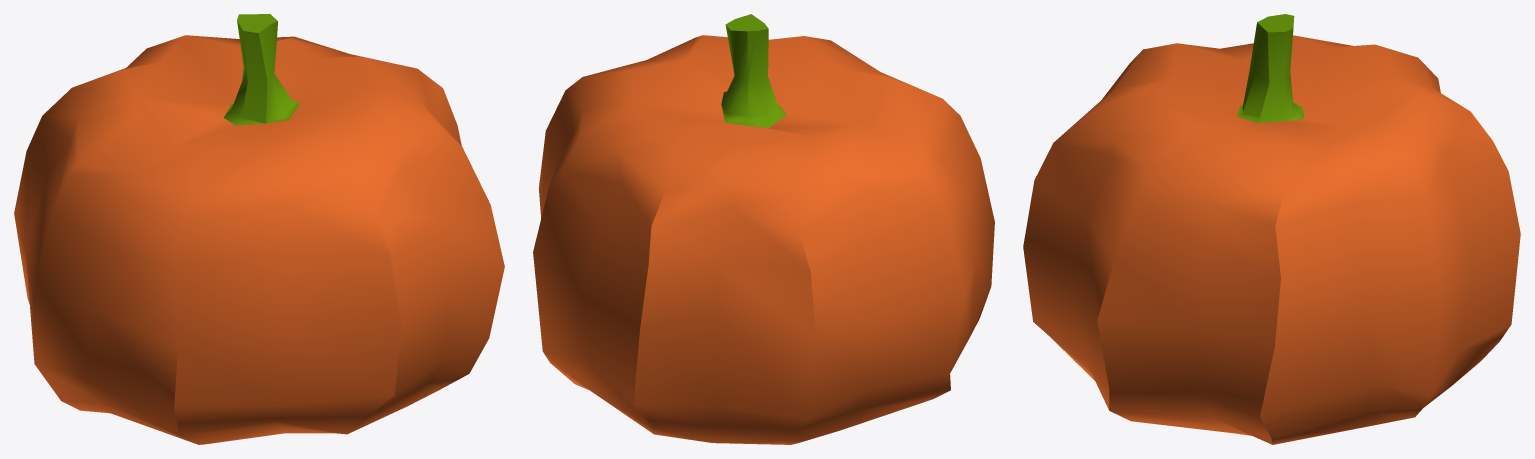
File: 22_LP_Pumpkin.fbx
3 renders of one model, left to right at view 1: azimuth 30°, elevation 25°; view 2: azimuth 150°, elevation 25°; view 3: azimuth 270°, elevation 25°, orthographic. The views are drawn at different scales.
Visible parts, largest first — view 1: Pumpkin; view 2: Pumpkin; view 3: Pumpkin.
Boxes of the visible parts, x1=… form: Pumpkin: x1=14, y1=14, x2=504, y2=444; Pumpkin: x1=533, y1=14, x2=994, y2=444; Pumpkin: x1=1023, y1=14, x2=1520, y2=444.
Bounding box in the file's own units: 65.14 × 53.24 × 64.16.
